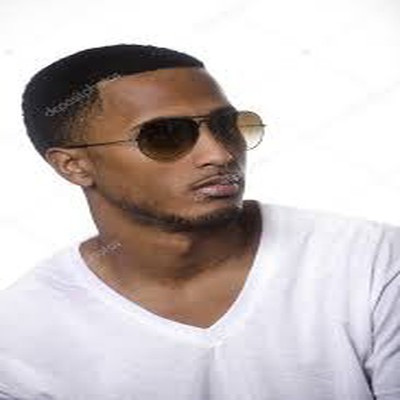eywear: (102, 84, 306, 153)
